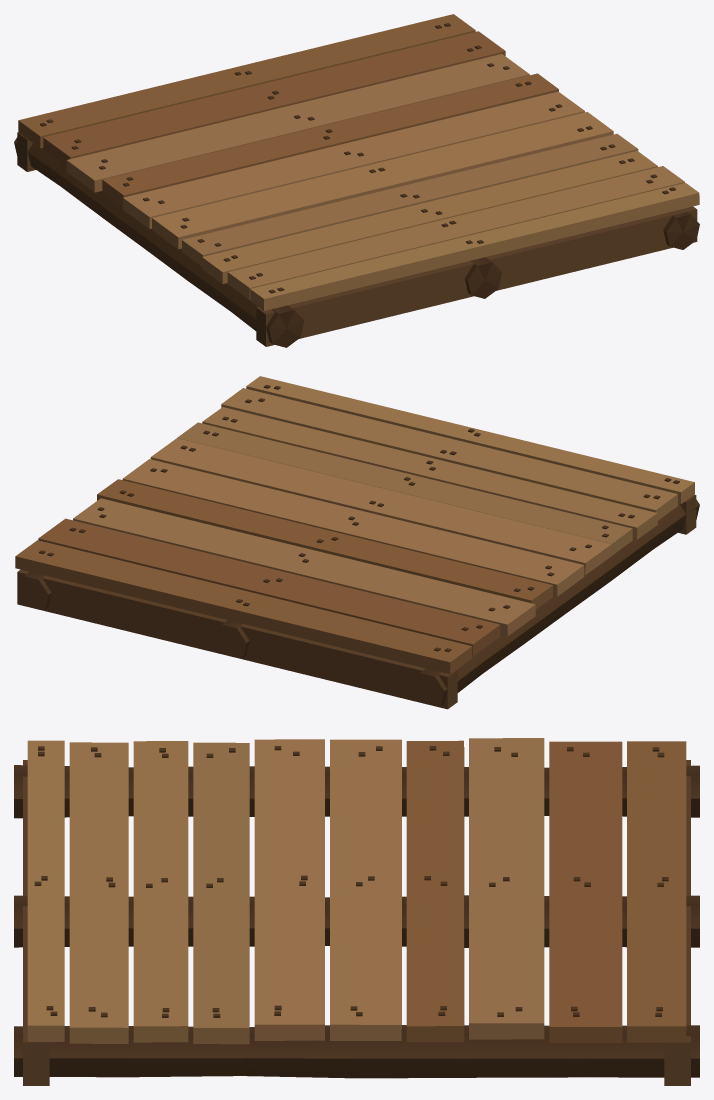
The model's file is foundation.glb.
The picture shows the model from 3 angles, top to bottom: view 1: azimuth 30°, elevation 25°; view 2: azimuth 150°, elevation 25°; view 3: azimuth 270°, elevation 25°; orthographic projection. The views are drawn at different scales.
Parts seen in each view (by area): view 1: b_foundation_solid; view 2: b_foundation_solid; view 3: b_foundation_solid.
Boxes of the visible parts, x1,y1,x2,y2 form: b_foundation_solid: (14, 14, 699, 347); b_foundation_solid: (15, 376, 699, 709); b_foundation_solid: (14, 738, 699, 1085).
Size of the model in its own units: 3.07 by 0.3391 by 3.08.
